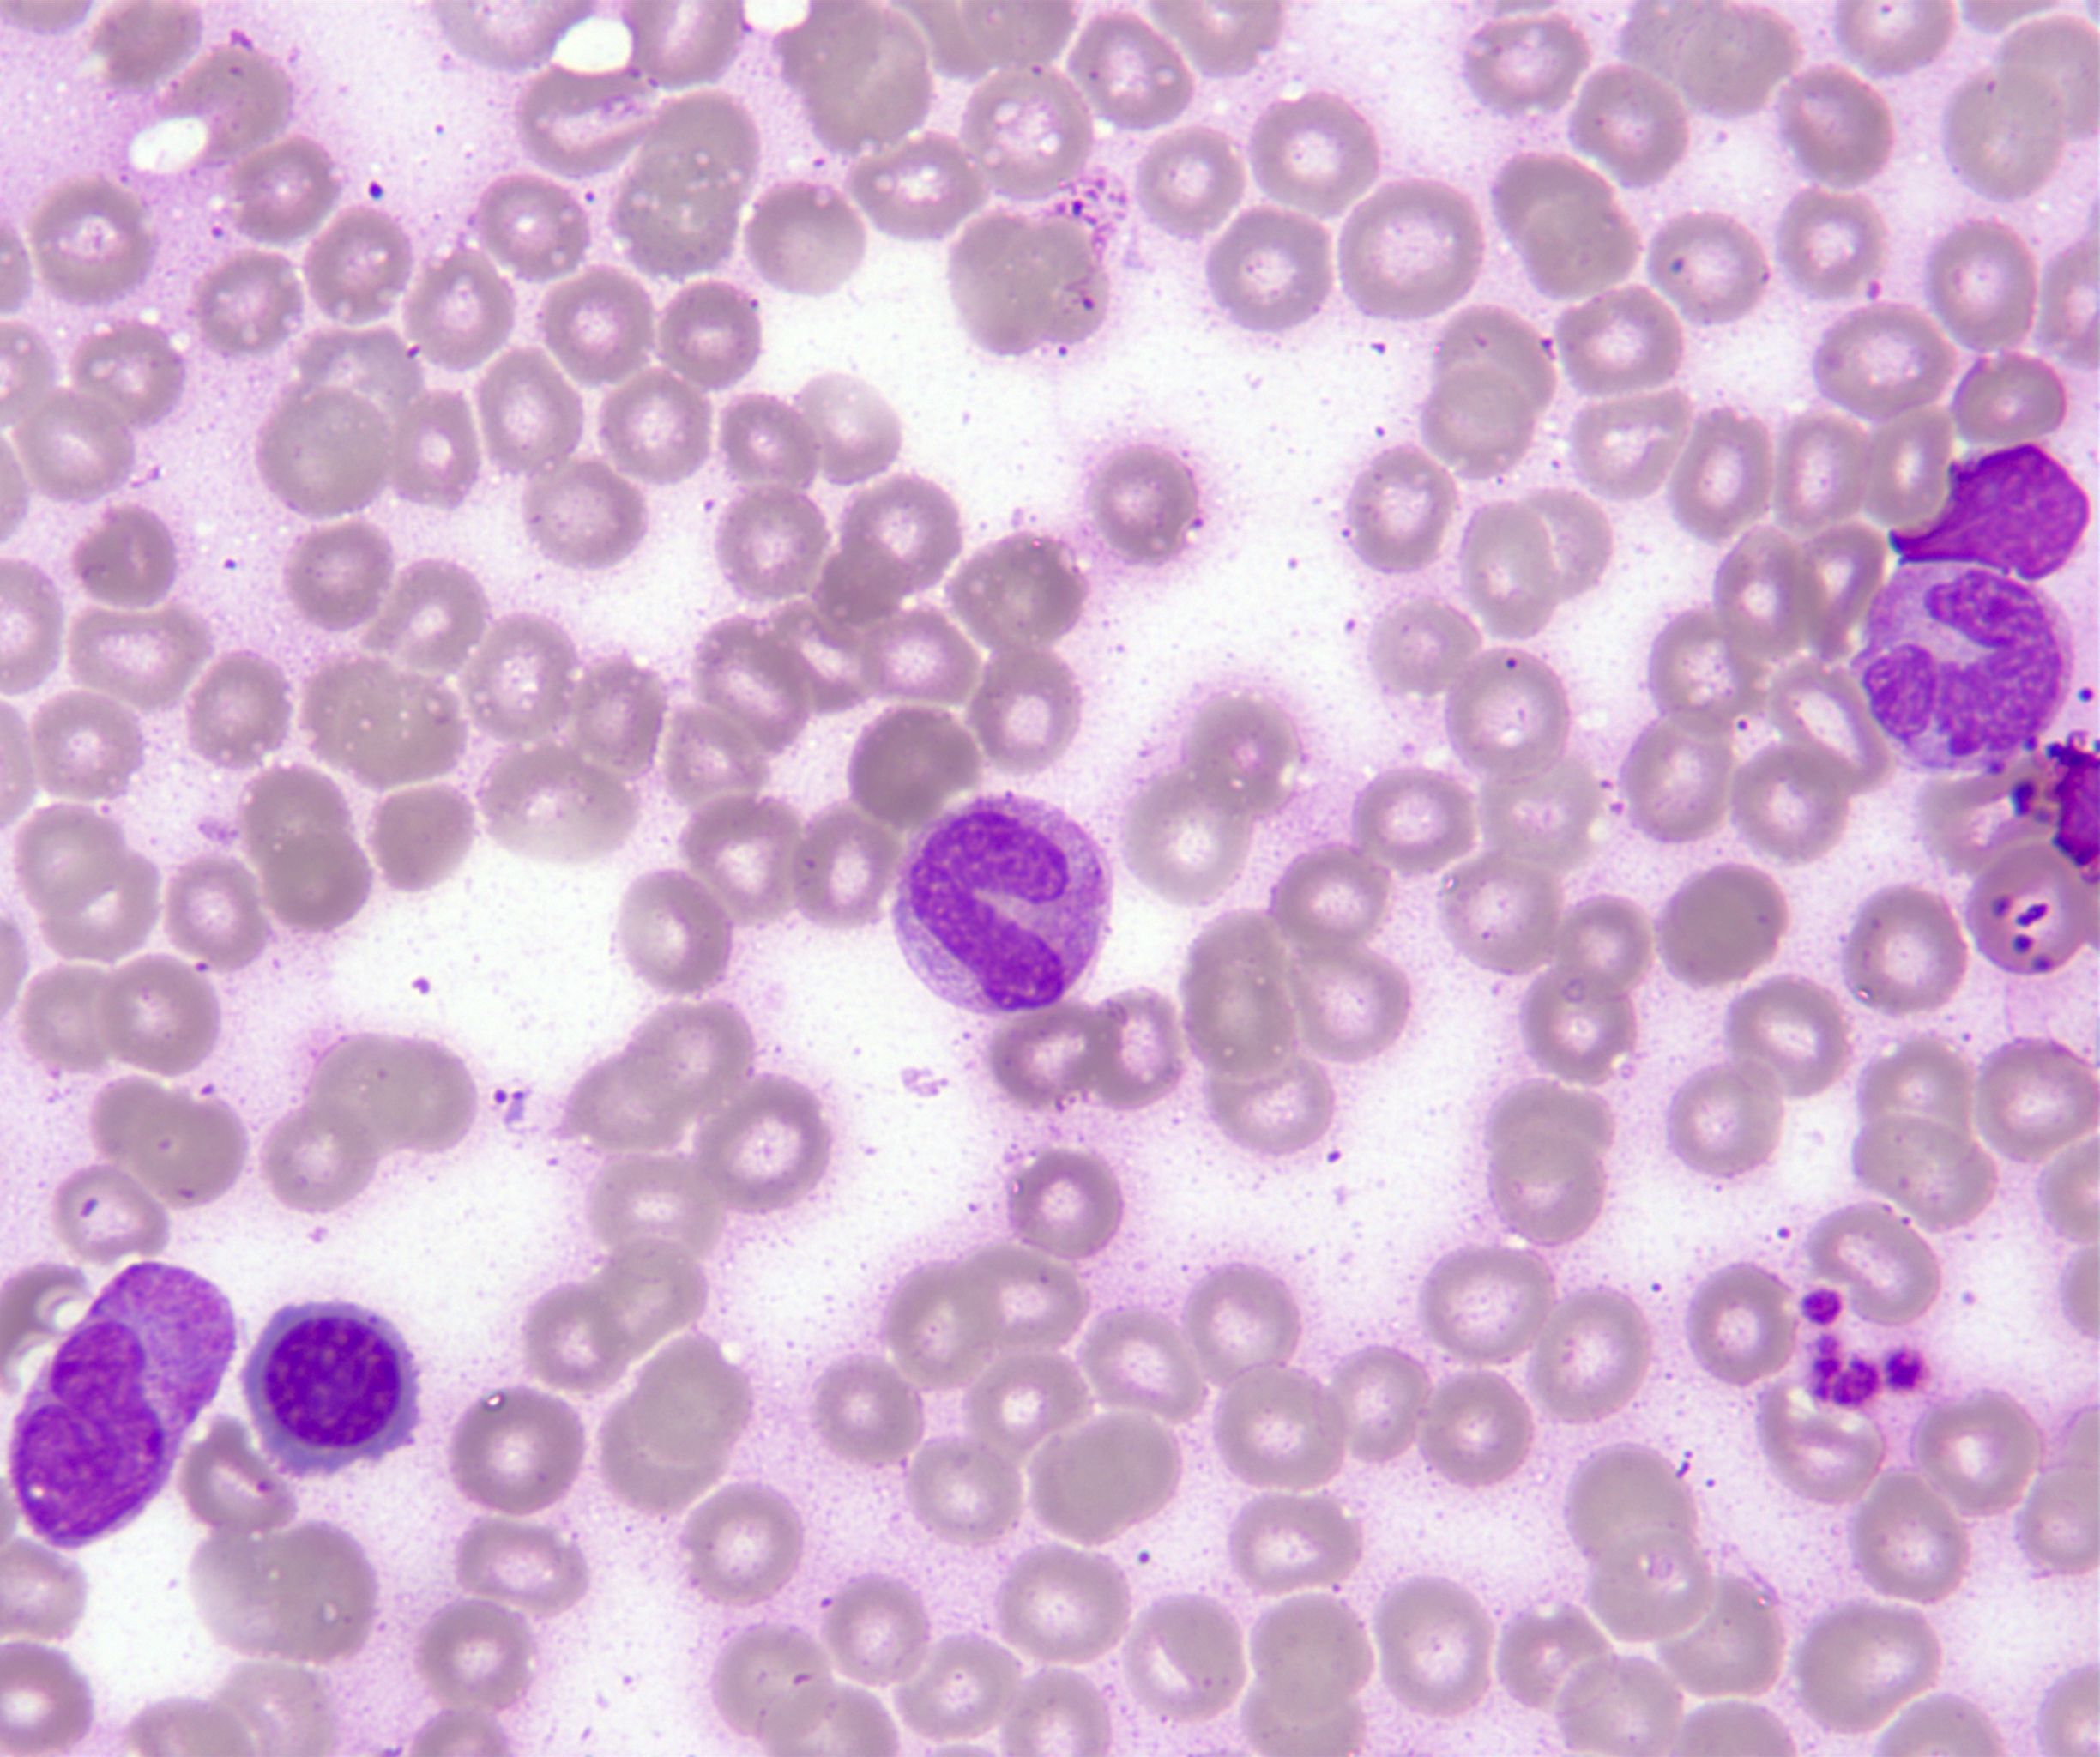23: (237, 1302, 417, 1478)
42: (9, 1260, 235, 1548), (1852, 562, 2072, 773)
5: (893, 796, 1109, 1015)
x: (1889, 445, 2090, 583)
